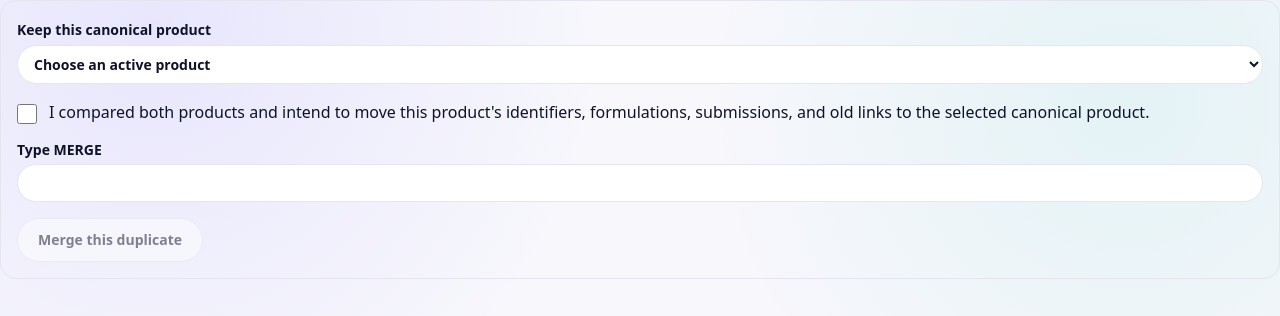
Test: Phase 8 product operation controls › requires a canonical target, acknowledgement, and exact MERGE text
Expected: the button "Merge this duplicate" is disabled, [17,218,203,262]
Select "Canonical Oats" in the dropdown labelled "Keep this canonical product" at (640, 64), box [17,45,1263,84]
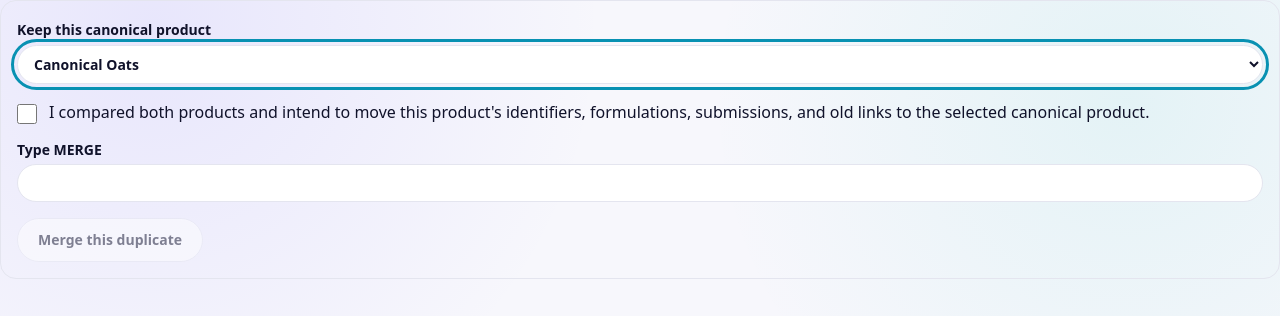
Click the checkbox at (27, 114), box [17,104,37,124]
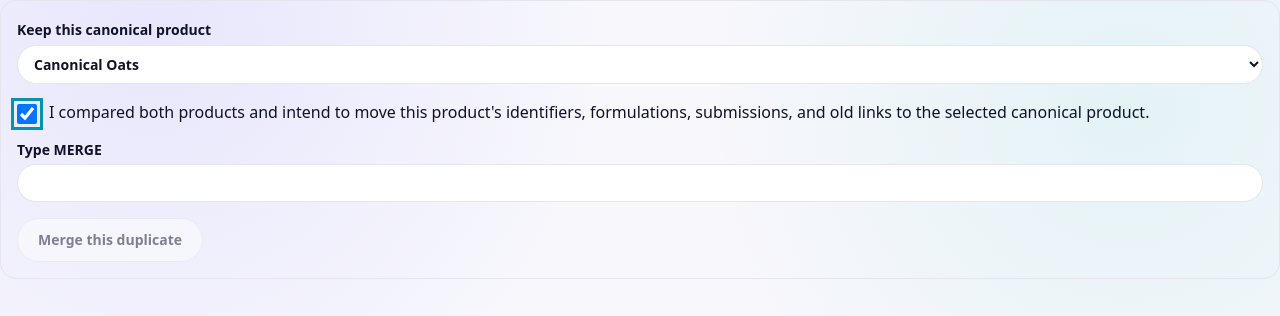
Type "MERGE" into the field labelled "Type MERGE" at (640, 183), box [17,164,1263,202]
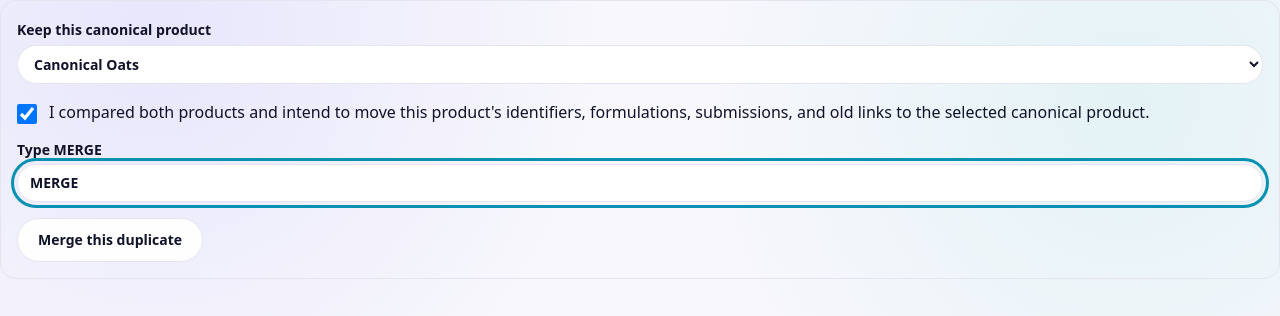
Now the button "Merge this duplicate" is enabled, box [17,218,203,262]
